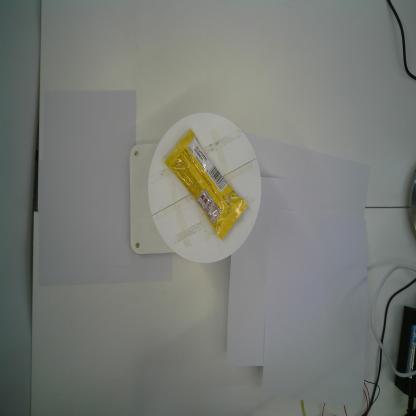Chocolate: (164, 128, 249, 240)
